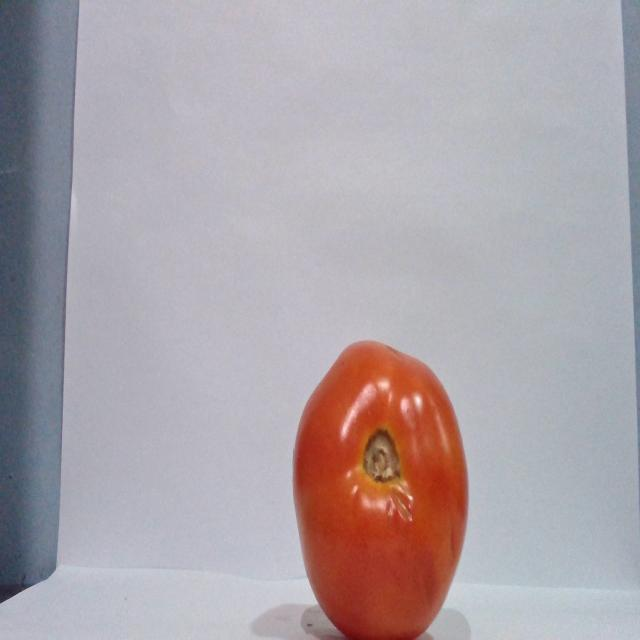Red: (290, 338, 470, 638)
